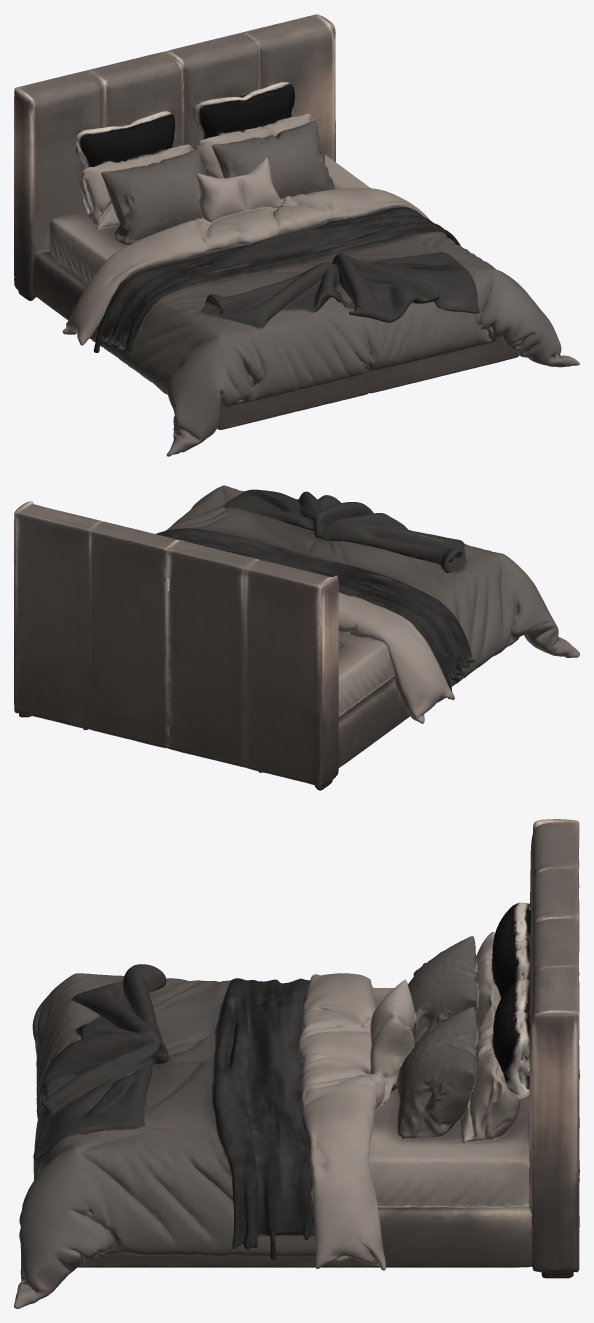
Rendered from Modern Upholstered Platform Bed with Paneled Headboard and Integrated Lighting [XuOALq].glb.
The picture shows the model from 3 angles, top to bottom: view 1: azimuth 30°, elevation 25°; view 2: azimuth 150°, elevation 25°; view 3: azimuth 270°, elevation 25°; orthographic projection. The views are drawn at different scales.
Visible parts, largest first — view 1: world; view 2: world; view 3: world.
Boxes of the visible parts, bbox=[...] form: world: bbox=[14, 14, 579, 456]; world: bbox=[14, 485, 579, 790]; world: bbox=[14, 819, 579, 1308].
Bounding box in the file's own units: 1 × 0.4969 × 0.9382.
1 material, 1 textured.
